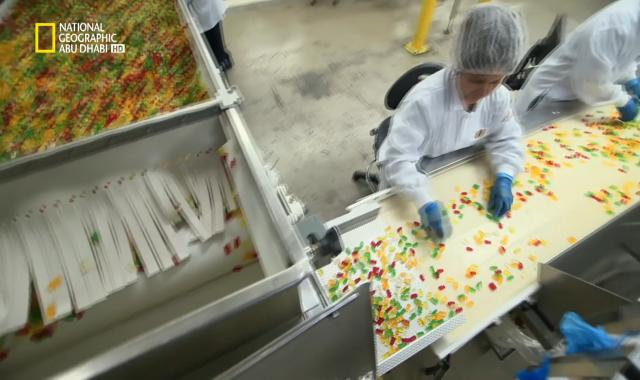hairnet: (456, 6, 522, 82)
